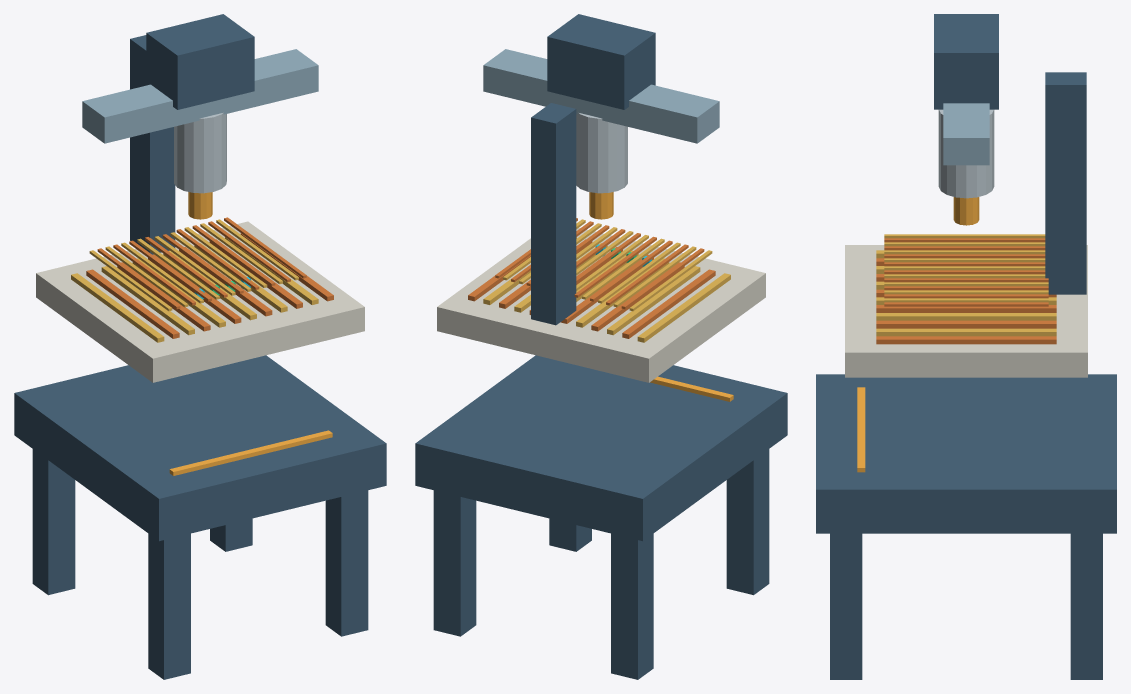
The model's file is 50_L78_InterlineCombTestFixture.fbx.
3 views of the same model, side by side, from view 1: azimuth 30°, elevation 25°; view 2: azimuth 150°, elevation 25°; view 3: azimuth 270°, elevation 25° (orthographic). The views are drawn at different scales.
Parts seen in each view (by area): view 1: InterlineCombTestFixture, InterlineCombTestFixture_Part_0041; view 2: InterlineCombTestFixture, InterlineCombTestFixture_Part_0041; view 3: InterlineCombTestFixture, InterlineCombTestFixture_Part_0041.
Part boxes in pixels (x1,y1,x2,y2): InterlineCombTestFixture: (14,35,386,679); InterlineCombTestFixture_Part_0041: (146,14,254,109); InterlineCombTestFixture: (415,49,787,679); InterlineCombTestFixture_Part_0041: (547,14,655,109); InterlineCombTestFixture: (816,72,1116,679); InterlineCombTestFixture_Part_0041: (934,14,998,109).
Size of the model in its own units: 118 by 284 by 130.
